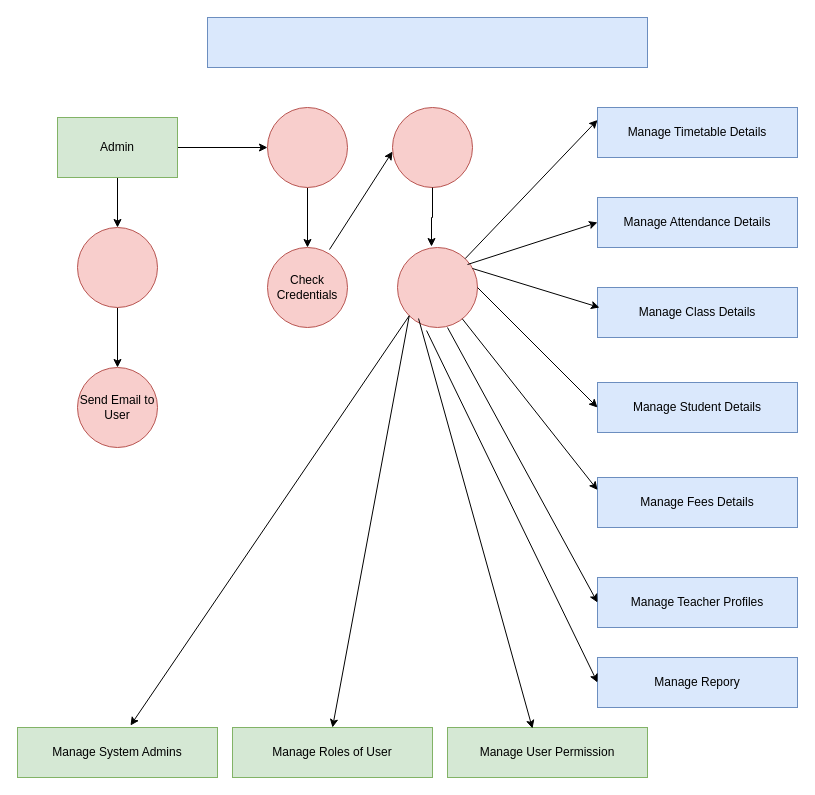
Some shapes in this 815 by 795 pixel diagram are drawn without their labels. The shapes that lost their labels are listed below. From the top down, each one's centre as x and y in pixels, then its label:
point (427, 42): STUDENT INFORMATION SYSTEM
point (307, 147): Login to system
point (432, 147): Check Roles of Access
point (117, 267): Forget Password
point (437, 287): Manage Modules
